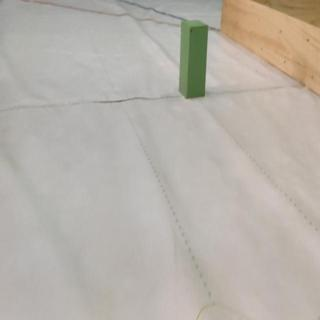greenbox: (179, 19, 209, 97)
